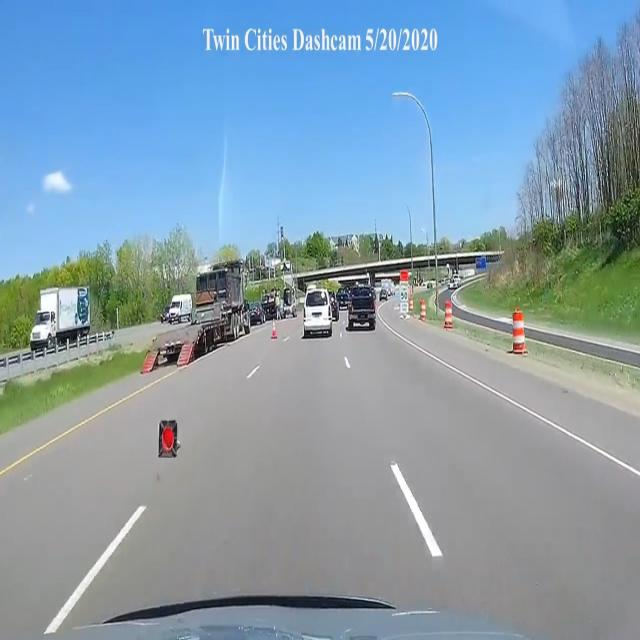cone: (157, 422, 177, 455), (271, 323, 280, 340)
